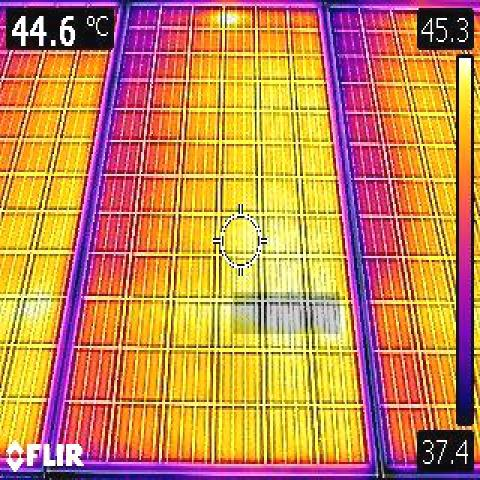fault: (233, 292, 340, 334), (20, 294, 55, 321), (214, 8, 242, 33)
